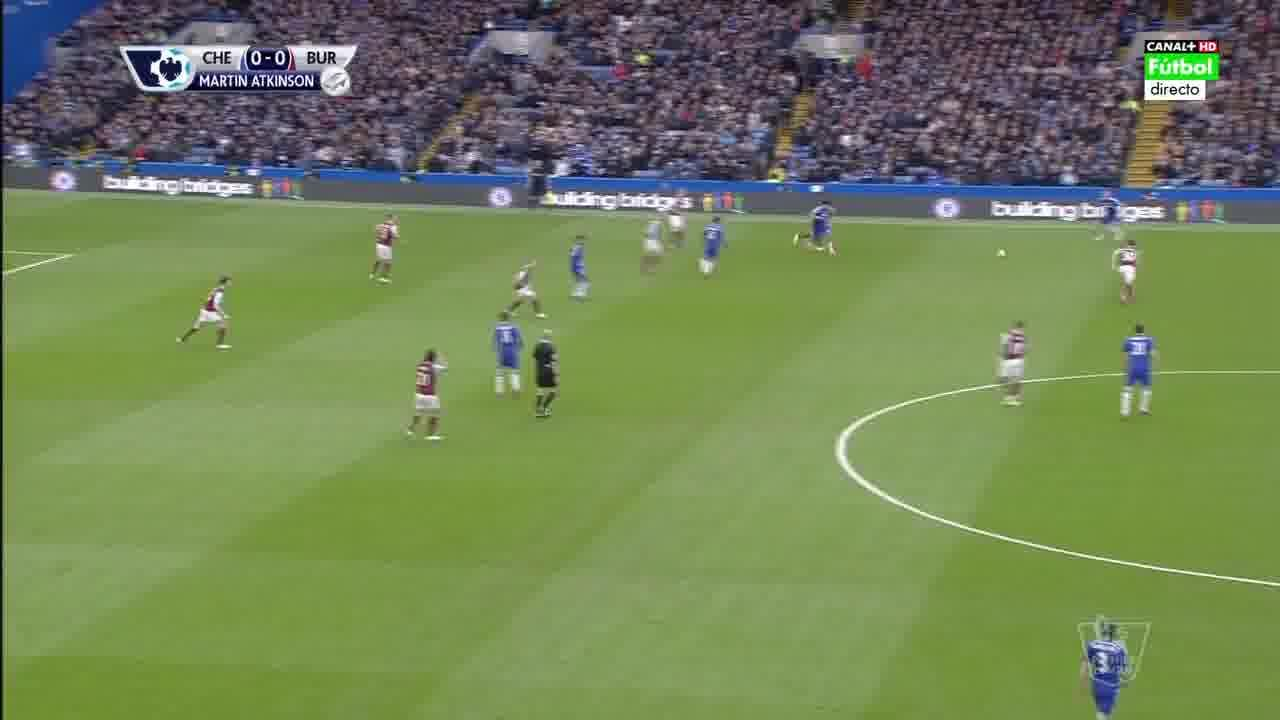football: (998, 249, 1007, 256)
